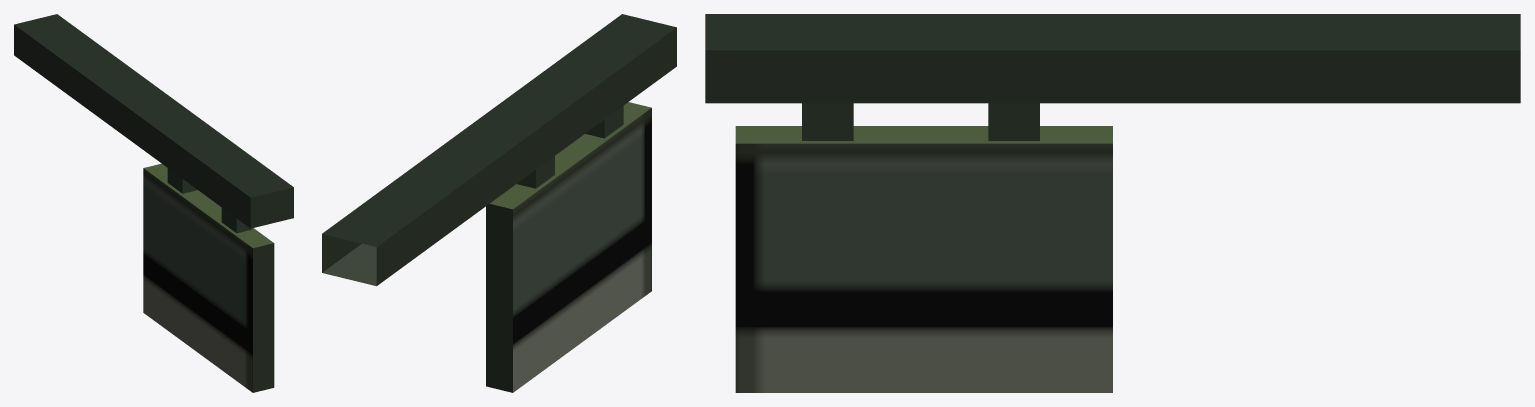
The model's file is SF_Bld_HouseAdd_Sign_Blacksmith_01.glb.
The picture shows the model from 3 angles, left to right: view 1: azimuth 30°, elevation 25°; view 2: azimuth 150°, elevation 25°; view 3: azimuth 270°, elevation 25°; orthographic projection. The views are drawn at different scales.
Visible parts, largest first — view 1: SF_Bld_HouseAdd_Sign_Blacksmith_01; view 2: SF_Bld_HouseAdd_Sign_Blacksmith_01; view 3: SF_Bld_HouseAdd_Sign_Blacksmith_01.
Boxes of the visible parts, x1,y1,x2,y2 form: SF_Bld_HouseAdd_Sign_Blacksmith_01: (14,14,293,392); SF_Bld_HouseAdd_Sign_Blacksmith_01: (322,14,676,392); SF_Bld_HouseAdd_Sign_Blacksmith_01: (705,14,1520,392).
Bounding box in the file's own units: 0.00409 × 0.0185 × 0.0389.
Materials: 1 (1 with a texture image).
